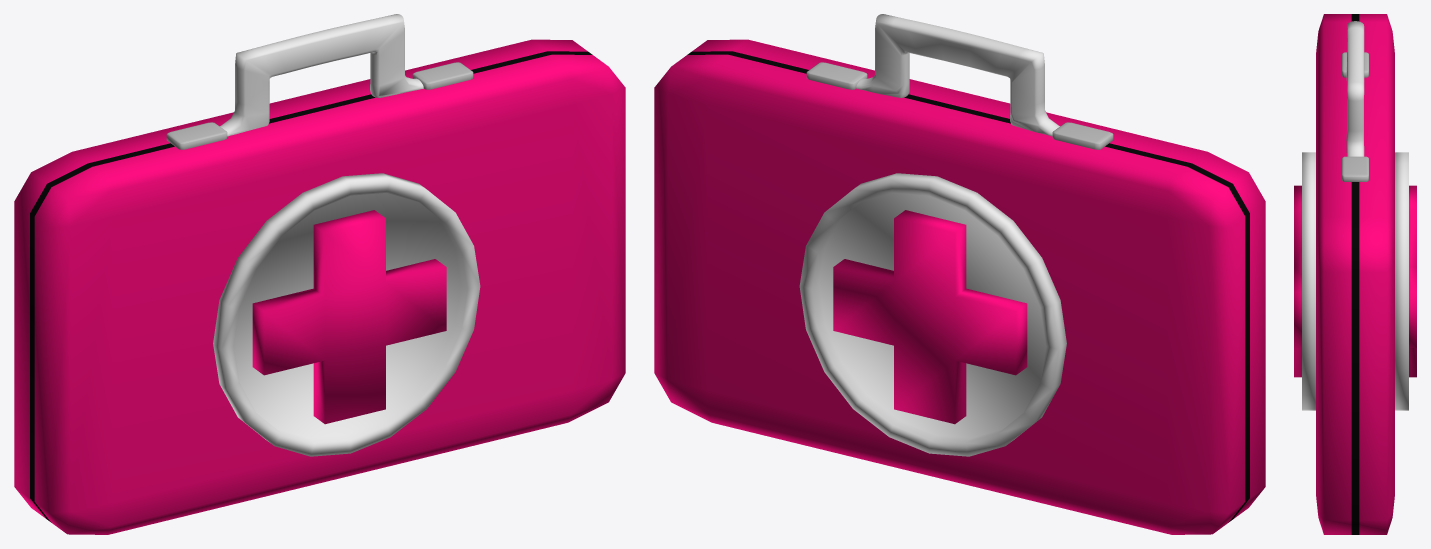
The model's file is medikit.fbx.
3 views of the same model, side by side, from view 1: azimuth 30°, elevation 25°; view 2: azimuth 150°, elevation 25°; view 3: azimuth 270°, elevation 25° (orthographic). The views are drawn at different scales.
Parts seen in each view (by area): view 1: medikit_case, medikit_logo_circle, medikit_logo_cross, medikit_handle, medikit_claps; view 2: medikit_case, medikit_logo_circle, medikit_logo_cross, medikit_handle, medikit_claps; view 3: medikit_case, medikit_logo_circle, medikit_logo_cross, medikit_handle, medikit_claps.
Boxes of the visible parts, <box> form: medikit_case: <box>14,39,625,534</box>; medikit_logo_circle: <box>213,173,480,456</box>; medikit_logo_cross: <box>252,210,446,424</box>; medikit_handle: <box>219,14,423,136</box>; medikit_claps: <box>166,62,473,149</box>; medikit_case: <box>654,39,1265,534</box>; medikit_logo_circle: <box>799,173,1066,456</box>; medikit_logo_cross: <box>833,210,1027,424</box>; medikit_handle: <box>856,14,1060,136</box>; medikit_claps: <box>806,62,1113,149</box>; medikit_case: <box>1316,14,1394,534</box>; medikit_logo_circle: <box>1302,152,1408,410</box>; medikit_logo_cross: <box>1294,185,1416,377</box>; medikit_handle: <box>1346,21,1364,156</box>; medikit_claps: <box>1342,52,1368,181</box>.
Size of the model in its own units: 169 by 121 by 36.
